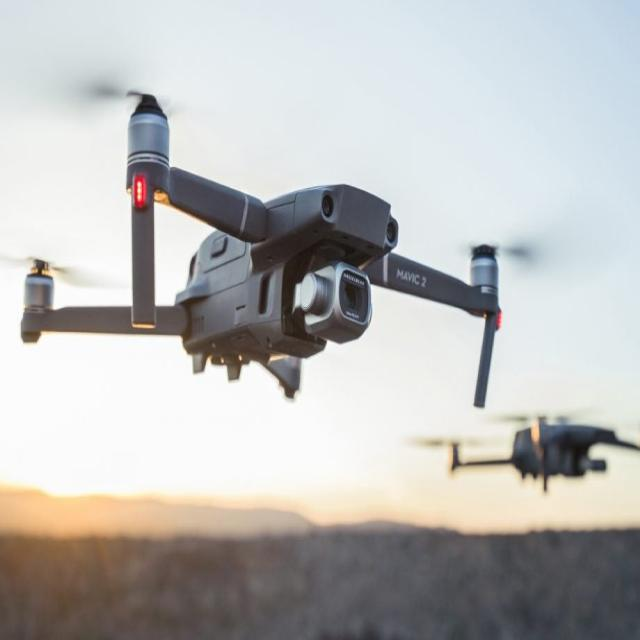drone: (4, 64, 512, 430)
